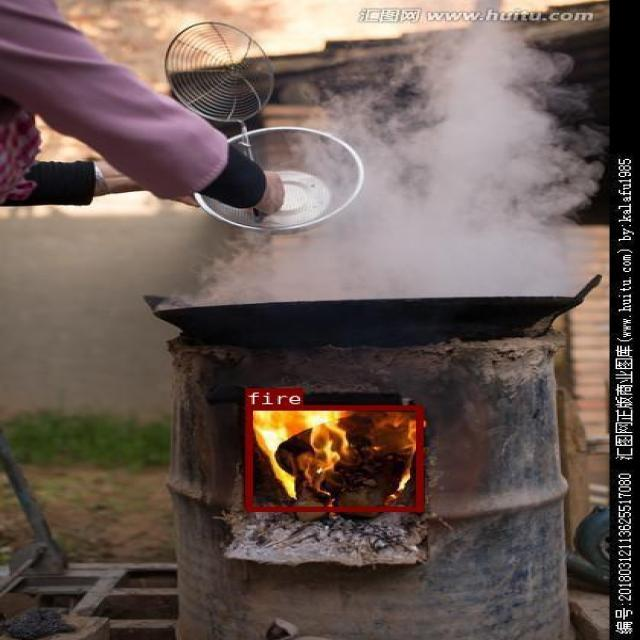fire: (245, 405, 422, 511)
